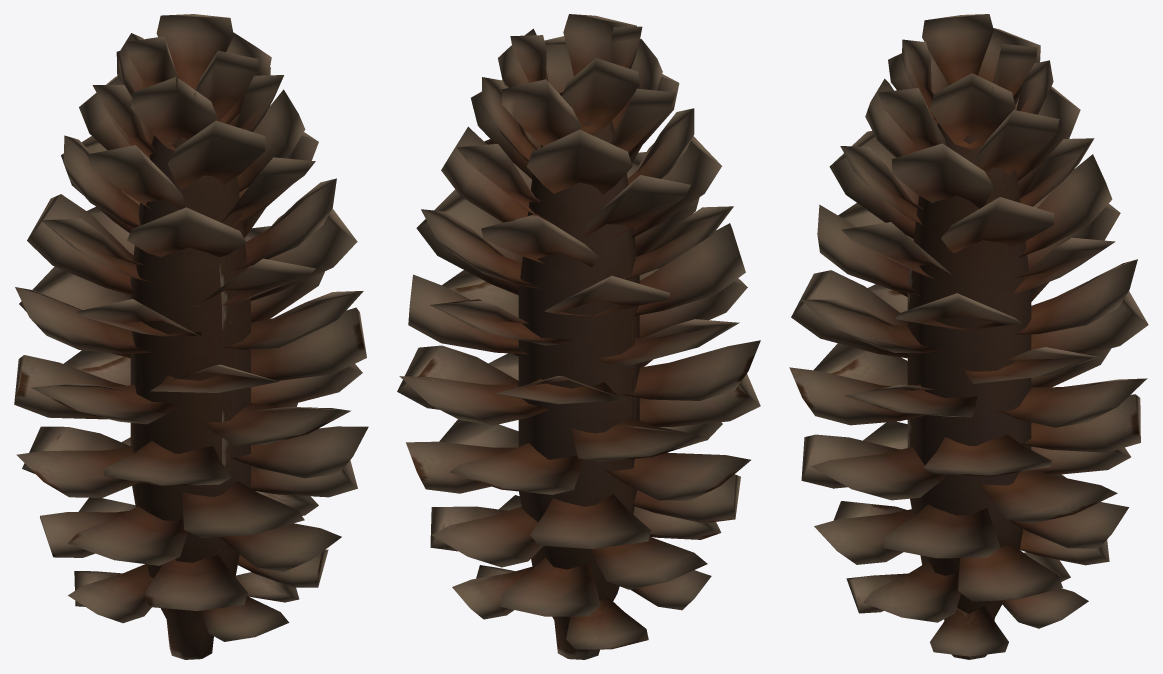
The model's file is pinecone.glb.
3 views of the same model, side by side, from view 1: azimuth 30°, elevation 25°; view 2: azimuth 150°, elevation 25°; view 3: azimuth 270°, elevation 25° (orthographic).
Parts seen in each view (by area): view 1: Cone; view 2: Cone; view 3: Cone.
Part boxes in pixels (bbox=[...]): Cone: bbox=[14, 14, 368, 659]; Cone: bbox=[397, 14, 760, 659]; Cone: bbox=[789, 14, 1148, 659].
Bounding box in the file's own units: 0.099 × 0.1902 × 0.0987.
1 material, 1 textured.
